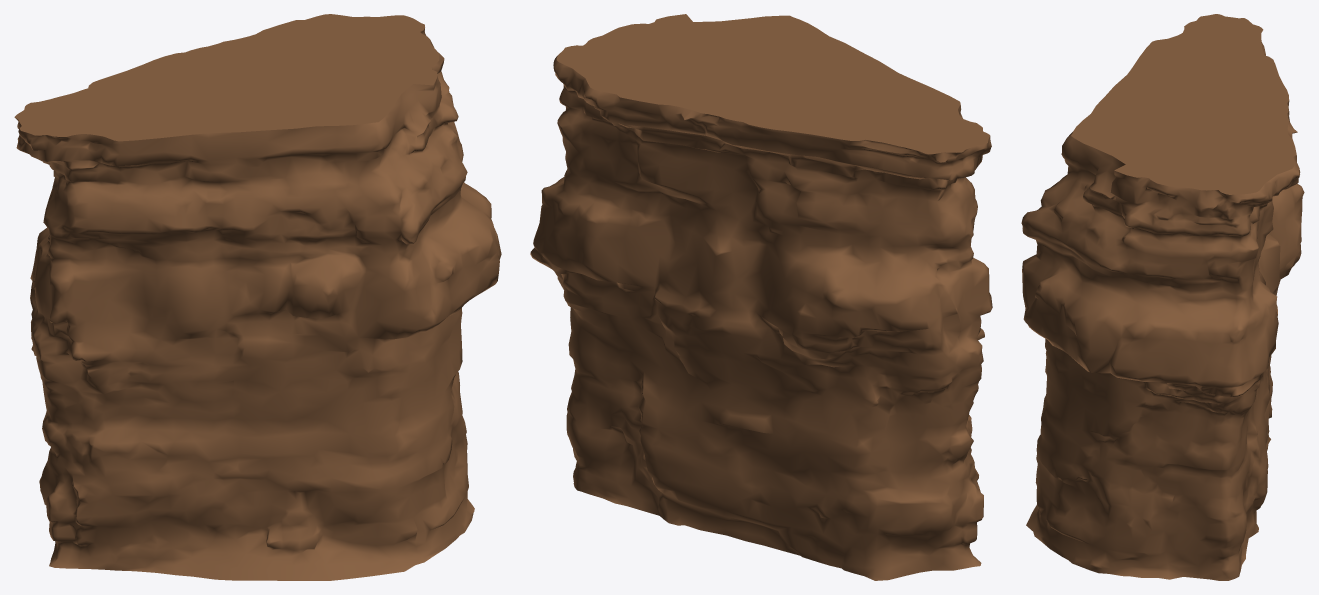
Rendered from MSH_Rocks_Cliff_10_a.FBX.
3 renders of one model, left to right at view 1: azimuth 30°, elevation 25°; view 2: azimuth 150°, elevation 25°; view 3: azimuth 270°, elevation 25°, orthographic. The views are drawn at different scales.
Visible parts, largest first — view 1: MESH_LOD0, CAP_LOD0; view 2: MESH_LOD0, CAP_LOD0; view 3: MESH_LOD0, CAP_LOD0.
Boxes of the visible parts, x1,y1,x2,y2 form: MESH_LOD0: (15,28,501,580); CAP_LOD0: (14,14,439,141); MESH_LOD0: (530,55,992,580); CAP_LOD0: (556,14,990,153); MESH_LOD0: (1021,42,1304,580); CAP_LOD0: (1071,14,1296,194).
Size of what is drawn, in the model's own units: 710 by 661 by 435.
